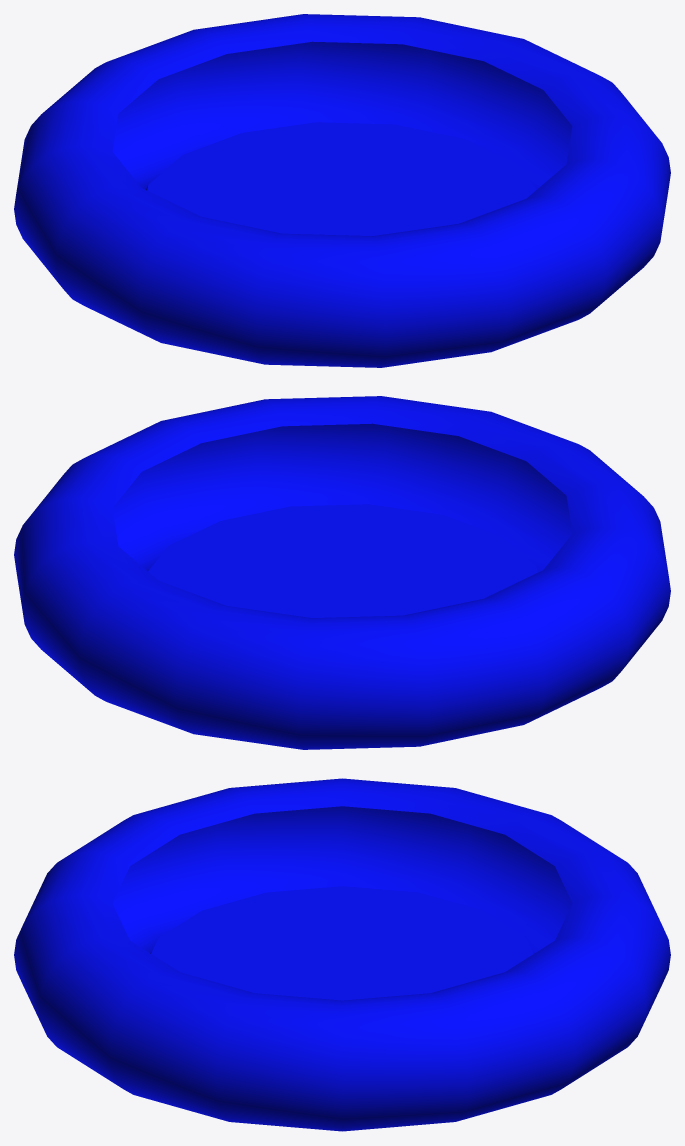
File: AutoTrooperTube.fbx
3 views of the same model, one above another, from view 1: azimuth 30°, elevation 25°; view 2: azimuth 150°, elevation 25°; view 3: azimuth 270°, elevation 25° (orthographic).
Visible parts, largest first — view 1: Torus; view 2: Torus; view 3: Torus.
Part boxes in pixels (<box>): Torus: <box>14,14,670,367</box>; Torus: <box>14,396,670,749</box>; Torus: <box>14,778,670,1131</box>.
Size of the model in its own units: 110 by 22.08 by 110.
